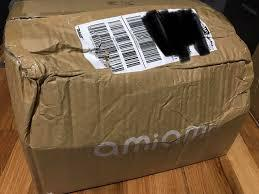damage_box: (2, 0, 254, 192)
